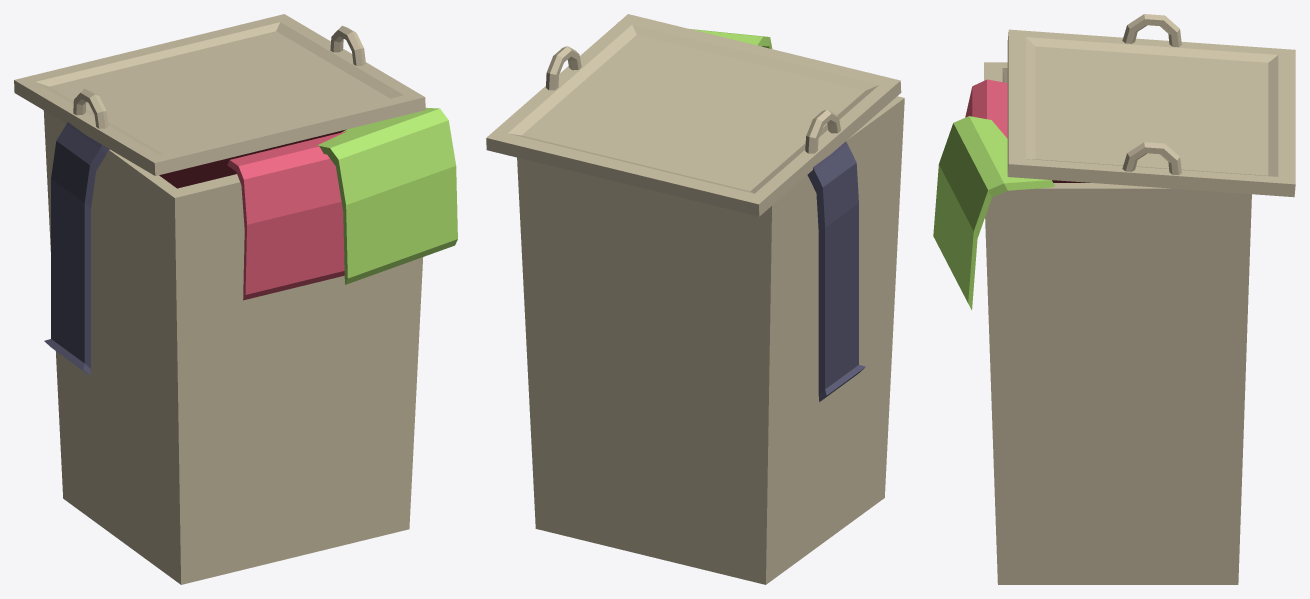
File: RoupaSuja.fbx
3 views of the same model, side by side, from view 1: azimuth 30°, elevation 25°; view 2: azimuth 150°, elevation 25°; view 3: azimuth 270°, elevation 25° (orthographic).
Parts seen in each view (by area): view 1: Plane, Plane.001, Plane.003, Plane.002, Plane.004, Torus, Plane.005; view 2: Plane, Plane.001, Plane.004, Torus, Plane.003; view 3: Plane, Plane.001, Plane.003, Torus, Plane.002.
Boxes of the visible parts, x1,y1,x2,y2 form: Plane: (43,110,423,584); Plane.001: (14,14,425,175); Plane.003: (317,107,457,284); Plane.002: (227,131,346,300); Plane.004: (44,122,109,375); Torus: (73,25,365,128); Plane.005: (159,129,346,188); Plane: (517,96,904,584); Plane.001: (486,14,901,216); Plane.004: (807,141,865,401); Torus: (546,46,840,153); Plane.003: (617,22,772,48); Plane: (984,62,1251,584); Plane.001: (1007,29,1295,197); Plane.003: (933,116,1054,309); Torus: (1122,14,1181,175); Plane.002: (965,79,1007,138).
Bounding box in the file's own units: 74.15 × 103 × 75.33.
